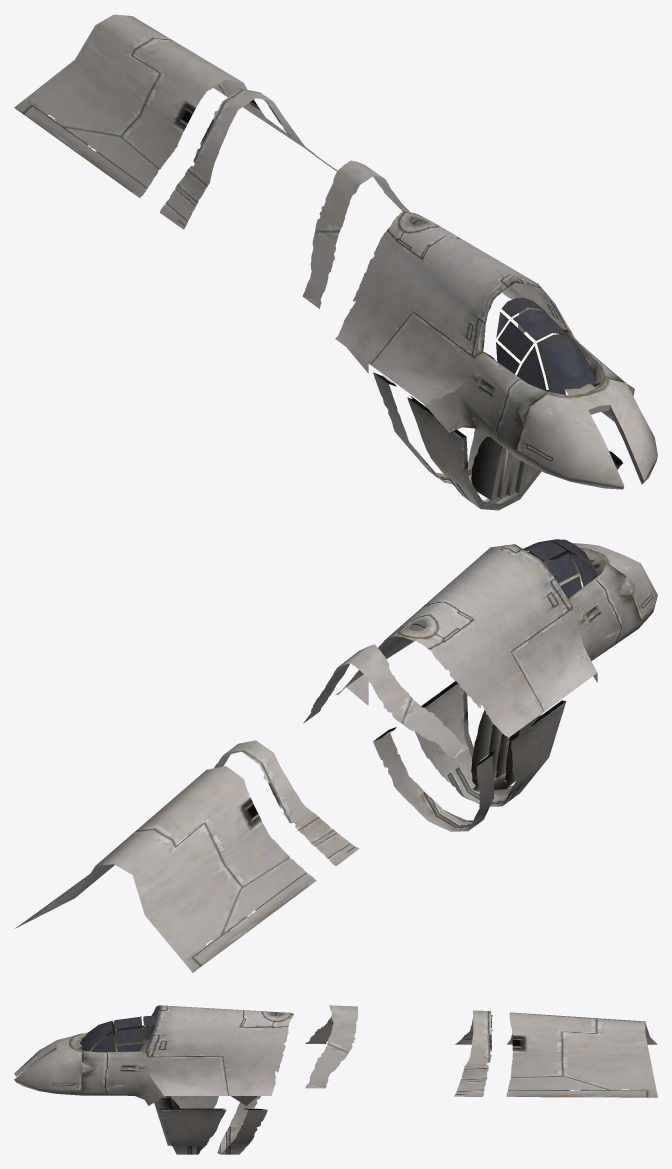
Rendered from hutt_fighter_medium_body_s02_l1.fbx.
The picture shows the model from 3 angles, top to bottom: view 1: azimuth 30°, elevation 25°; view 2: azimuth 150°, elevation 25°; view 3: azimuth 270°, elevation 25°; orthographic projection. The views are drawn at different scales.
Visible parts, largest first — view 1: mesh_node; view 2: mesh_node; view 3: mesh_node.
Part boxes in pixels (bbox=[...]): mesh_node: bbox=[14, 14, 657, 510]; mesh_node: bbox=[15, 539, 657, 972]; mesh_node: bbox=[14, 1005, 657, 1154].
Size of the model in its own units: 5.11 by 6.69 by 26.25.
